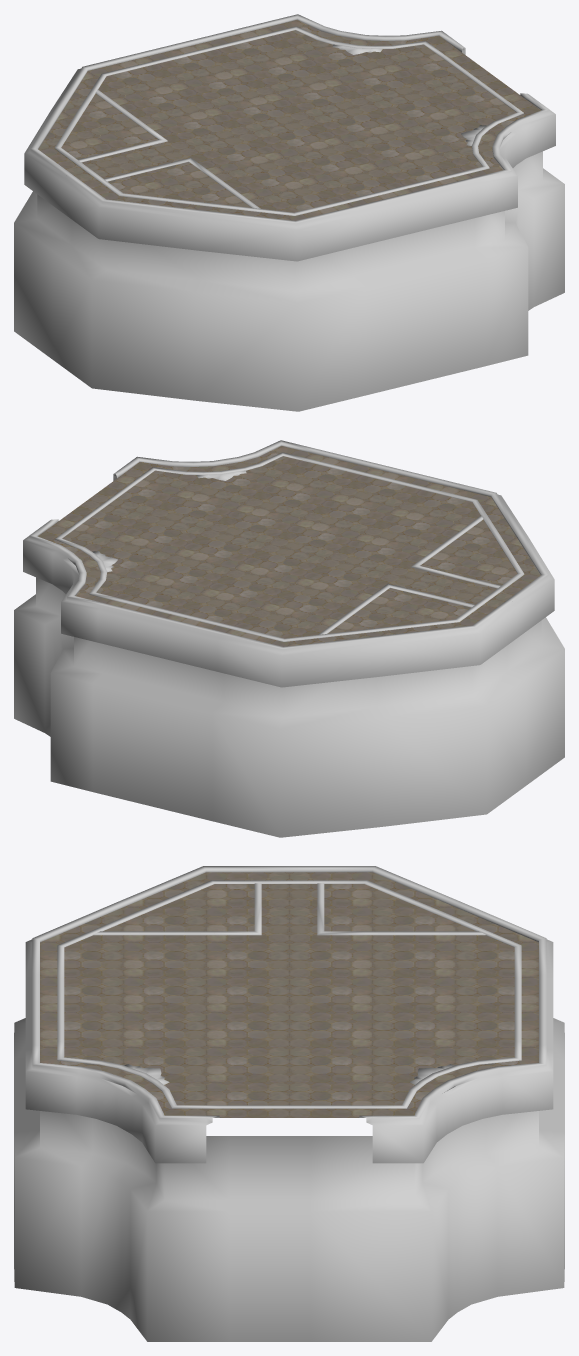
The model's file is t_pngtai01.FBX.
3 views of the same model, one above another, from view 1: azimuth 30°, elevation 25°; view 2: azimuth 150°, elevation 25°; view 3: azimuth 270°, elevation 25° (orthographic). The views are drawn at different scales.
Parts seen in each view (by area): view 1: t_pngtai01_qiang, t_pngtai01_dimian; view 2: t_pngtai01_qiang, t_pngtai01_dimian; view 3: t_pngtai01_qiang, t_pngtai01_dimian.
Boxes of the visible parts, x1,y1,x2,y2 form: t_pngtai01_qiang: (14,14,564,411); t_pngtai01_dimian: (38,20,540,220); t_pngtai01_qiang: (14,440,564,837); t_pngtai01_dimian: (38,446,540,646); t_pngtai01_qiang: (14,866,564,1341); t_pngtai01_dimian: (40,872,538,1117).
Bounding box in the file's own units: 4561 × 1747 × 4000.
